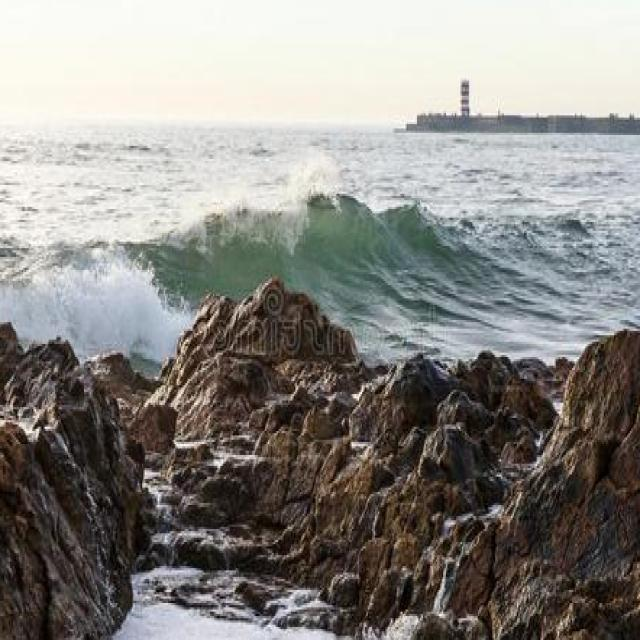reef: (94, 295, 390, 557)
